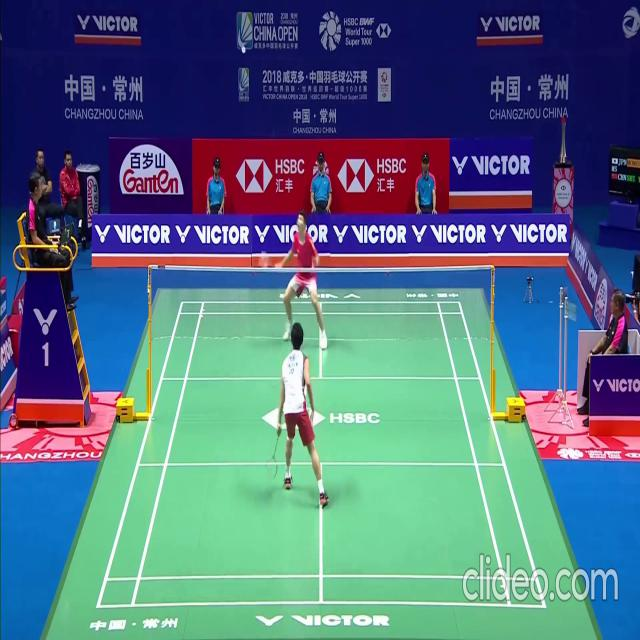Shuttlecock: (241, 45, 245, 52)
